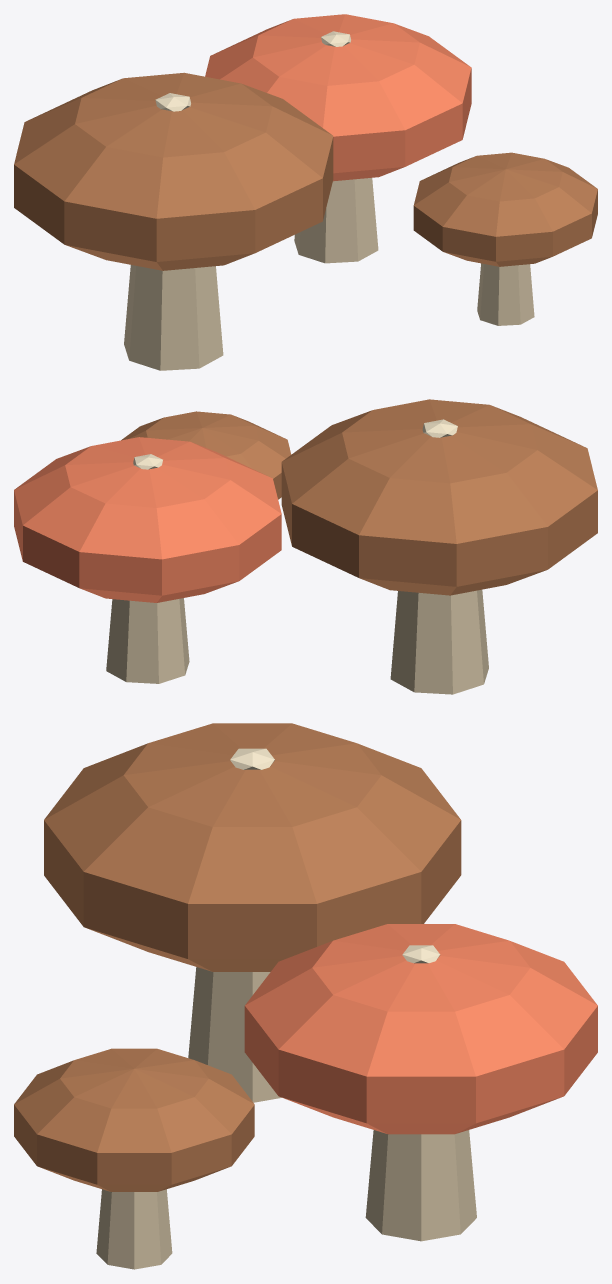
Rendered from forest-mushroom-cluster.glb.
3 renders of one model, top to bottom at view 1: azimuth 30°, elevation 25°; view 2: azimuth 150°, elevation 25°; view 3: azimuth 270°, elevation 25°, orthographic. The views are drawn at different scales.
Parts seen in each view (by area): view 1: Forest mushroom one cap, Forest mushroom two cap, Forest mushroom three cap, Forest mushroom one stalk, Forest mushroom two stalk, Forest mushroom three stalk, Forest mushroom one top spot; view 2: Forest mushroom one cap, Forest mushroom two cap, Forest mushroom one stalk, Forest mushroom two stalk, Forest mushroom three cap, Forest mushroom one top spot; view 3: Forest mushroom one cap, Forest mushroom two cap, Forest mushroom three cap, Forest mushroom two stalk, Forest mushroom one stalk, Forest mushroom three stalk, Forest mushroom one top spot.
Part boxes in pixels (box(x1,y1,x2,y2)): Forest mushroom one cap: box(14, 72, 333, 270); Forest mushroom two cap: box(205, 14, 471, 181); Forest mushroom three cap: box(413, 152, 597, 266); Forest mushroom one stalk: box(124, 265, 223, 370); Forest mushroom two stalk: box(294, 178, 378, 263); Forest mushroom three stalk: box(477, 263, 534, 325); Forest mushroom one top spot: box(155, 93, 190, 111); Forest mushroom one cap: box(281, 399, 597, 595); Forest mushroom two cap: box(14, 437, 281, 602); Forest mushroom one stalk: box(390, 589, 488, 694); Forest mushroom two stalk: box(106, 598, 189, 683); Forest mushroom three cap: box(121, 411, 291, 499); Forest mushroom one top spot: box(422, 419, 457, 437); Forest mushroom one cap: box(44, 723, 461, 971); Forest mushroom two cap: box(244, 924, 597, 1134); Forest mushroom three cap: box(14, 1048, 254, 1191); Forest mushroom two stalk: box(365, 1130, 476, 1241); Forest mushroom one stalk: box(188, 967, 281, 1102); Forest mushroom three stalk: box(96, 1189, 172, 1269); Forest mushroom one top spot: box(230, 748, 274, 769).
Bounding box in the file's own units: 0.4354 × 0.2111 × 0.3459.
